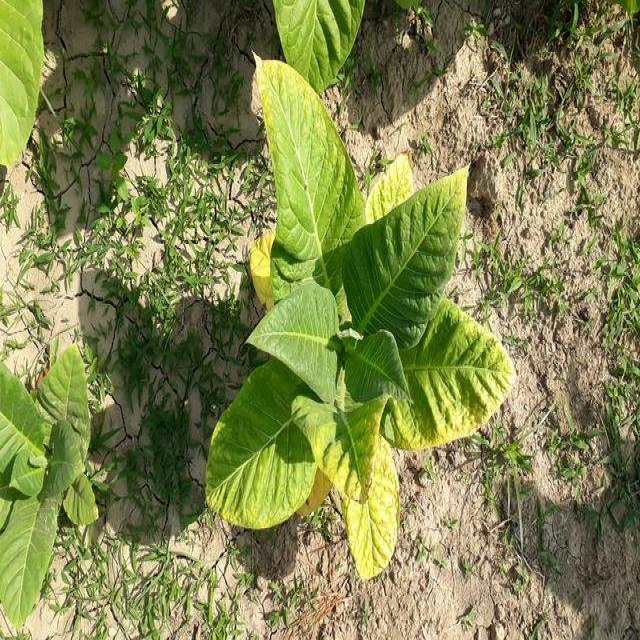crop: (217, 67, 516, 560), (0, 353, 92, 612), (278, 0, 377, 79), (2, 0, 46, 163)
